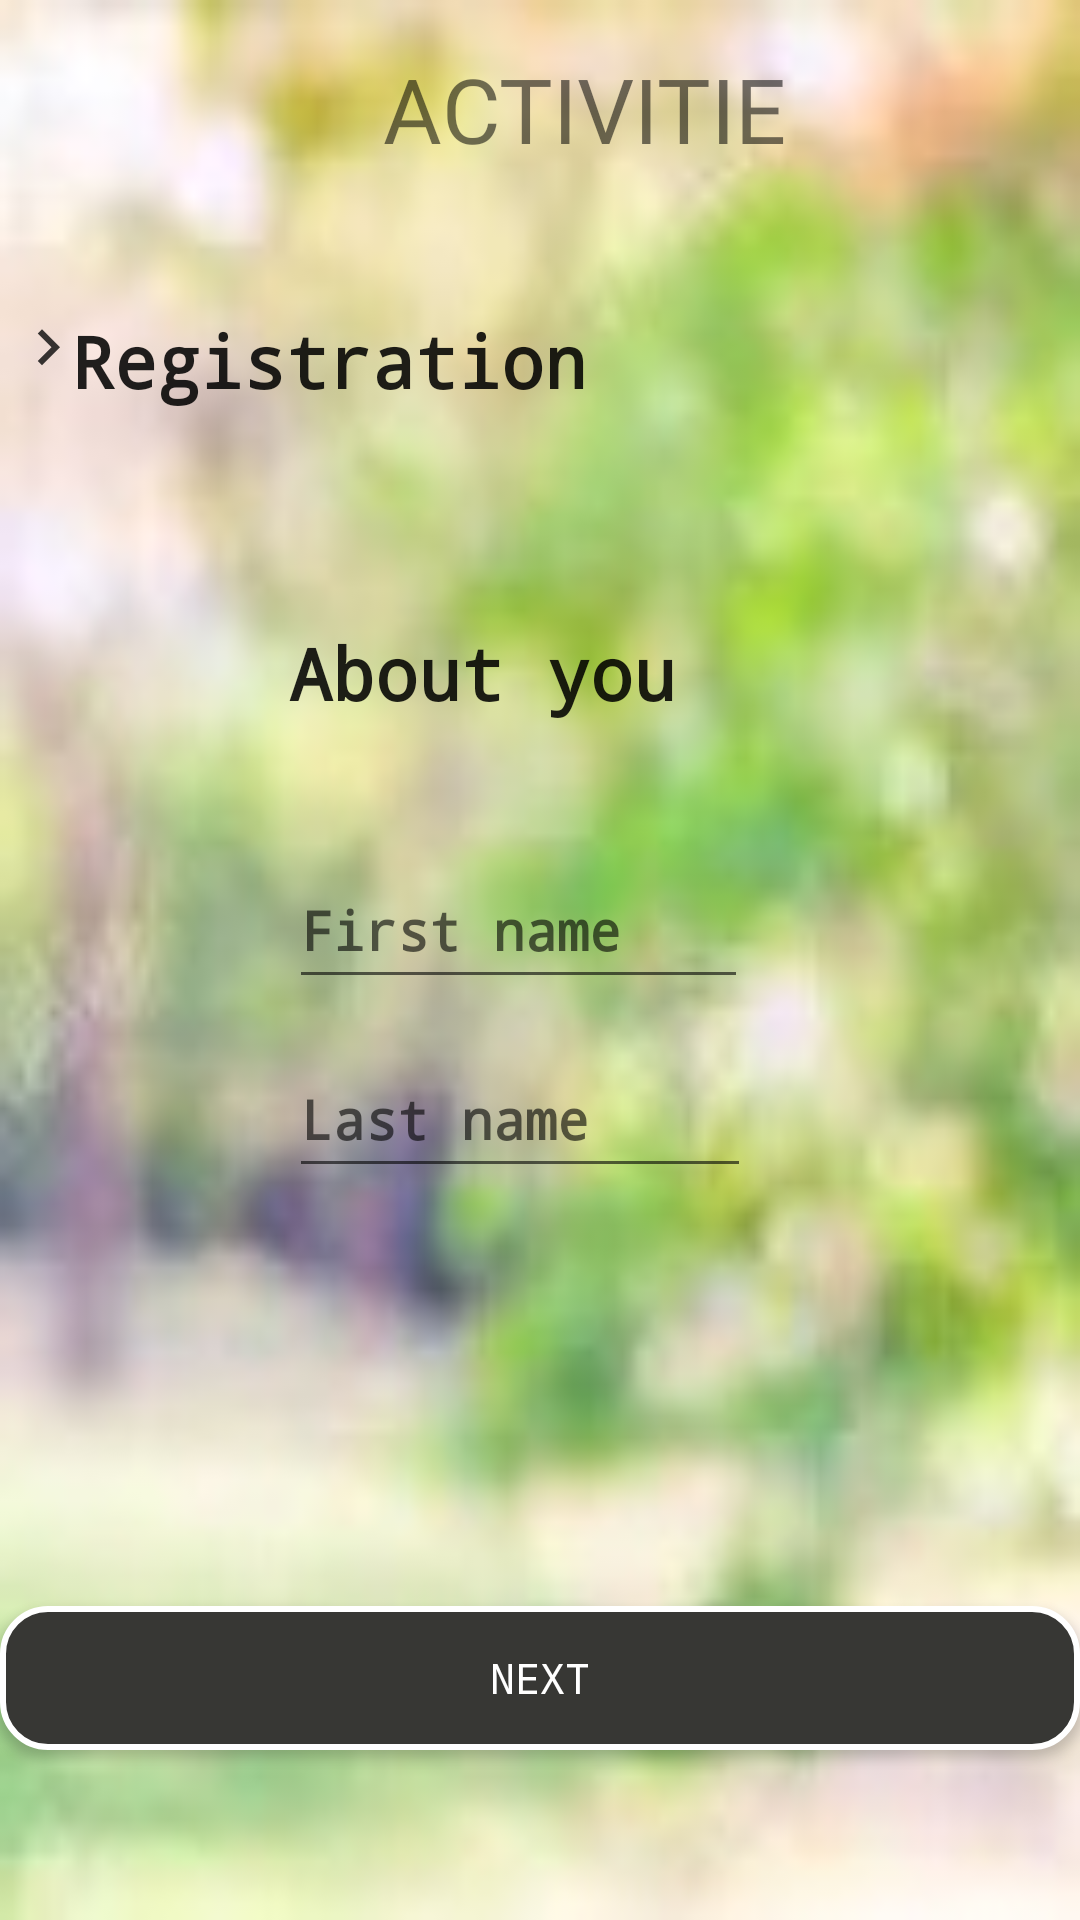

Locate icon controls on the screen. Image size 1080×1920, boxes as [x1=x1, y1=y1, x2=x2, y2=y2].
arrow: [x1=38, y1=329, x2=60, y2=365]
